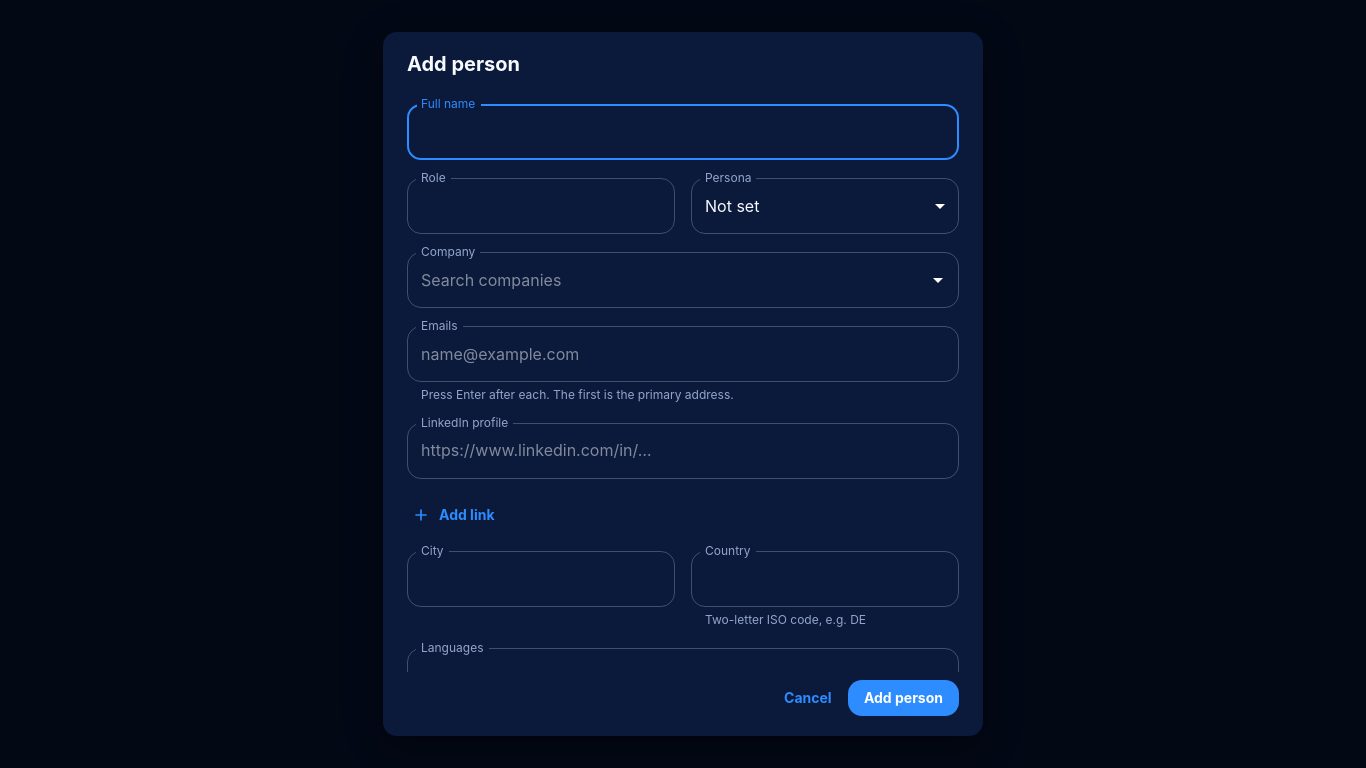
Test case: PersonFormDialog (adding) › shows the command's own validation message and sends nothing
Step 1. Click the button "Add person" → [903, 698], box 848,680 -> 959,716
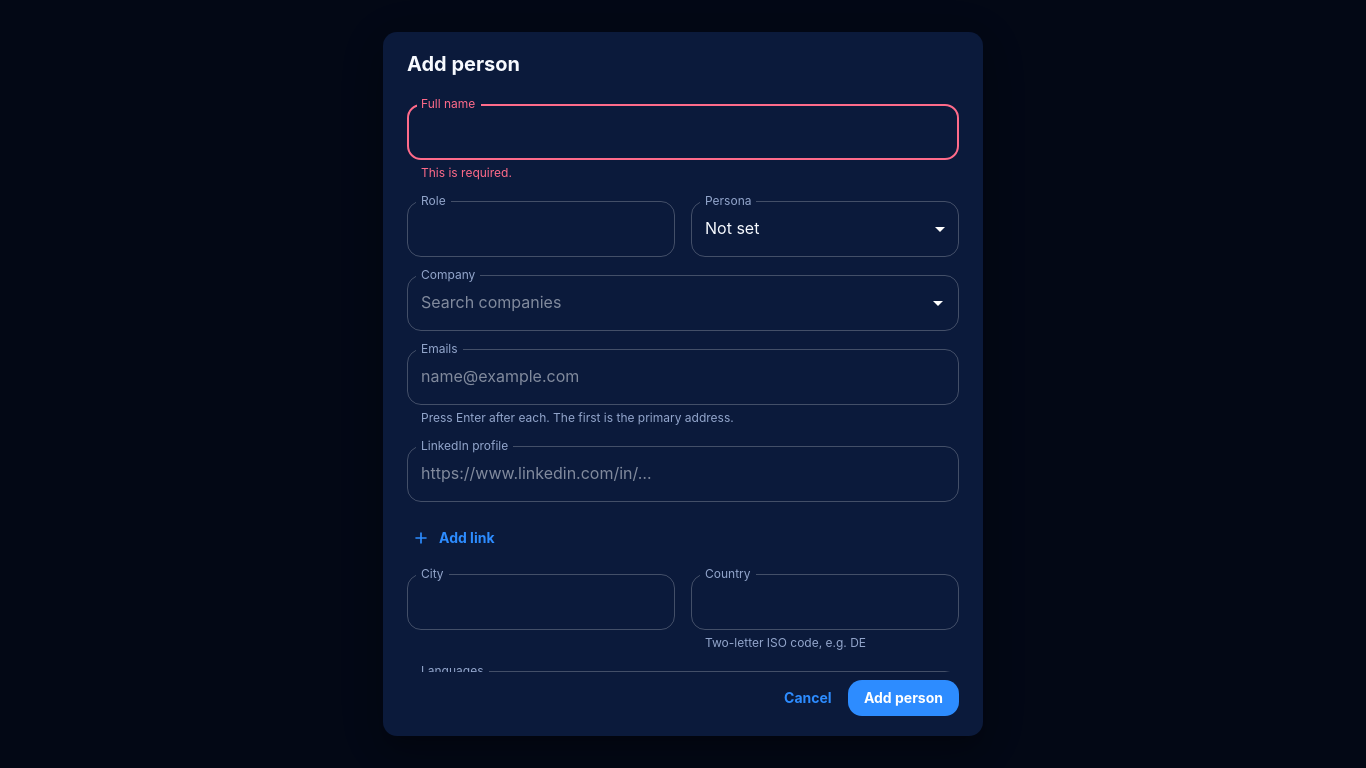
Expected: the text "This is required." is shown, 421,165 -> 512,180
